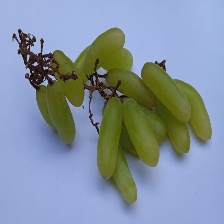grapes: (21, 38, 187, 196)
